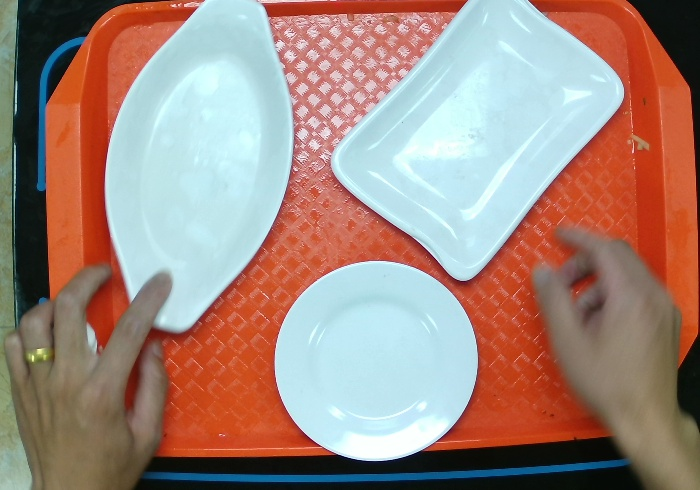RJxy-Si_Fang_Ao_Bian_Wan: (322, 1, 636, 279)
RJxy-Xiao_Yuan_Die: (266, 251, 485, 466)
RJxy-Yu_Pan: (104, 1, 297, 335)
